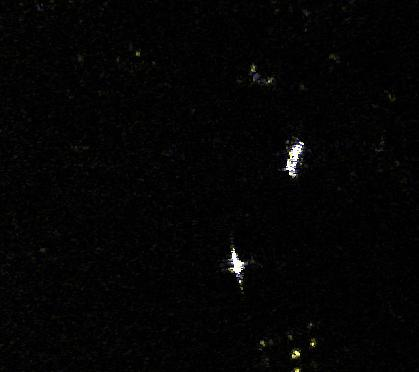ship: (286, 138, 305, 178), (228, 247, 247, 284)
